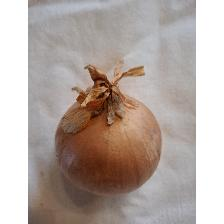Zwiebel: (53, 51, 163, 199)
